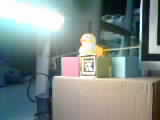duck: (73, 27, 116, 57)
